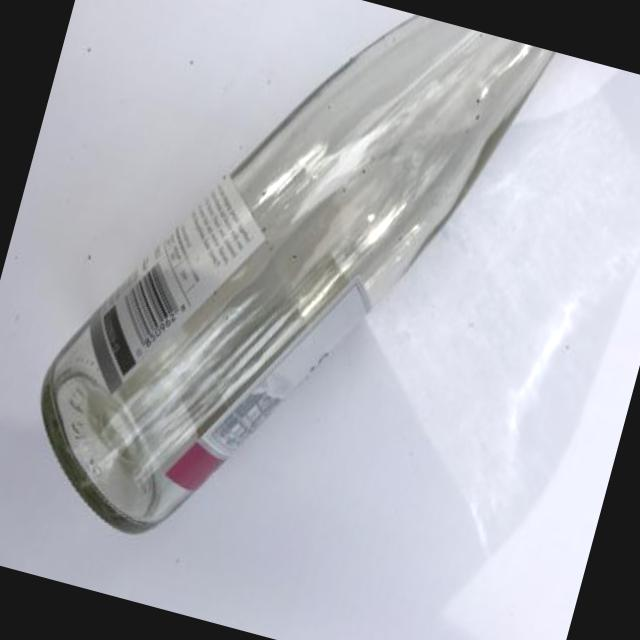chai_thuy_tinh: (39, 15, 554, 534)
